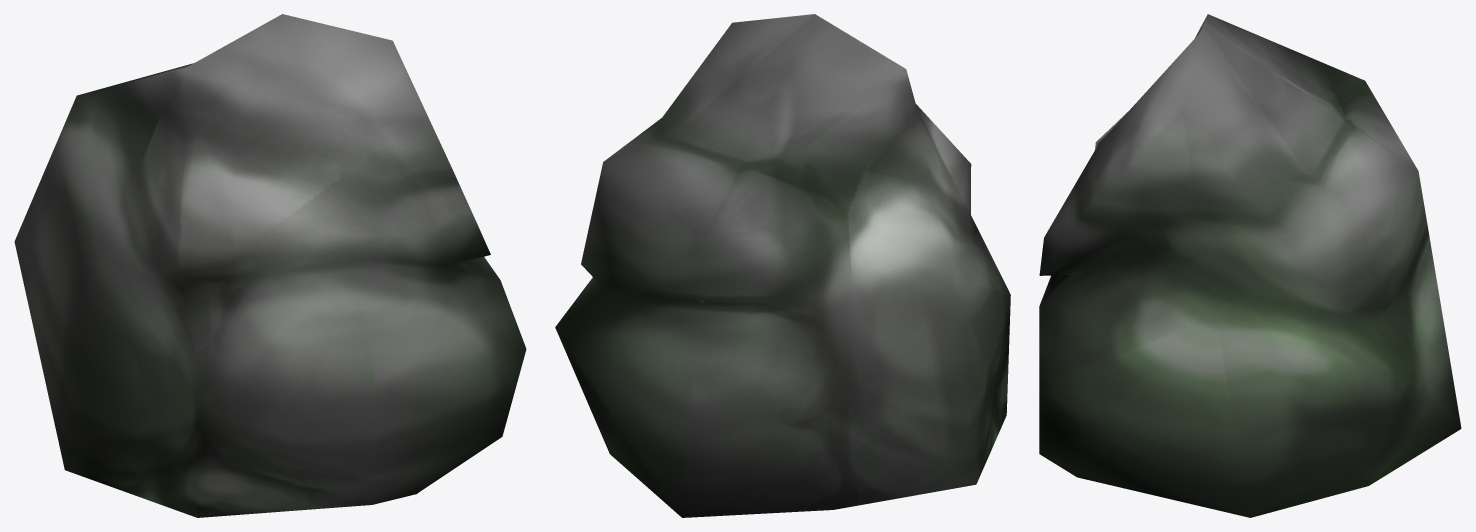
File: rock.gltf
3 renders of one model, left to right at view 1: azimuth 30°, elevation 25°; view 2: azimuth 150°, elevation 25°; view 3: azimuth 270°, elevation 25°, orthographic. The views are drawn at different scales.
Parts seen in each view (by area): view 1: Cube; view 2: Cube; view 3: Cube.
Part boxes in pixels (x1,y1,x2,y2): Cube: (14, 14, 526, 517); Cube: (555, 14, 1010, 517); Cube: (1039, 14, 1461, 517).
Bounding box in the file's own units: 2 × 2.09 × 2.
Materials: 1 (1 with a texture image).
